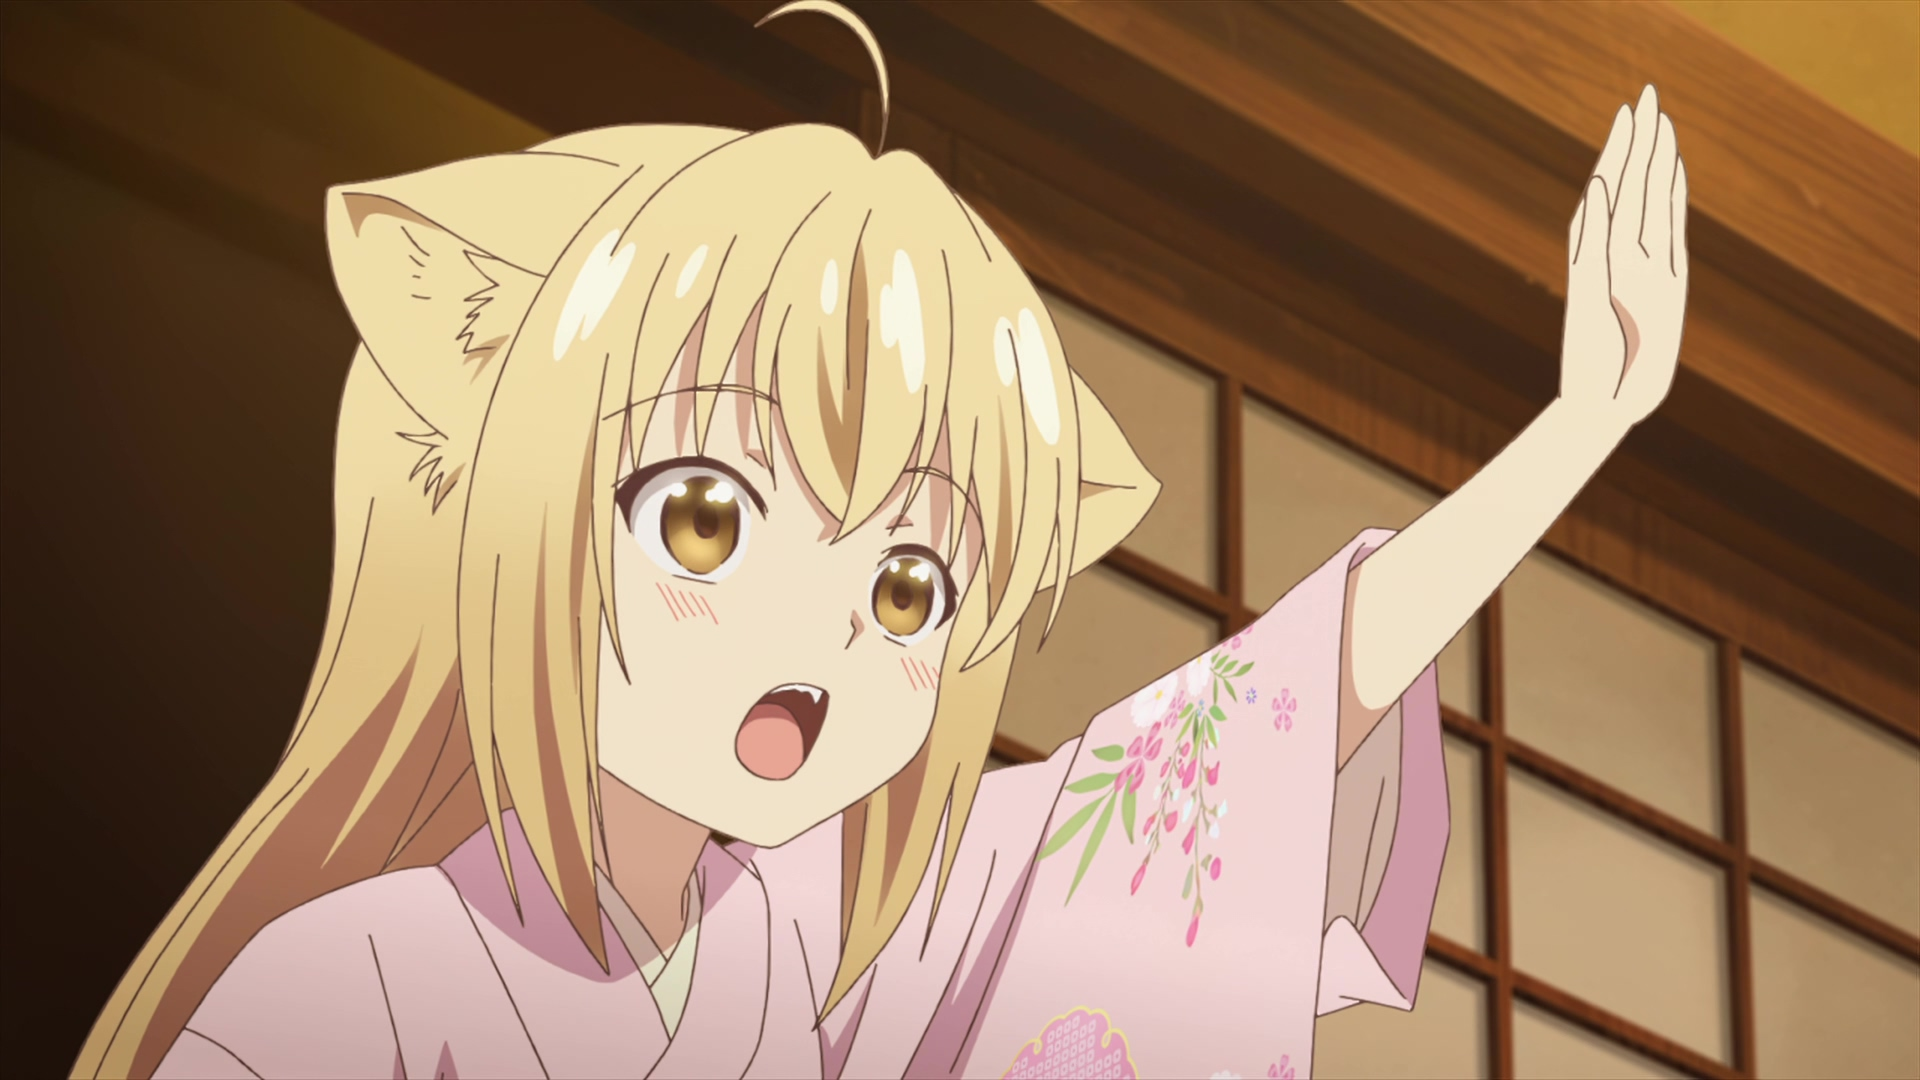柚: (67, 1, 1685, 1080)
